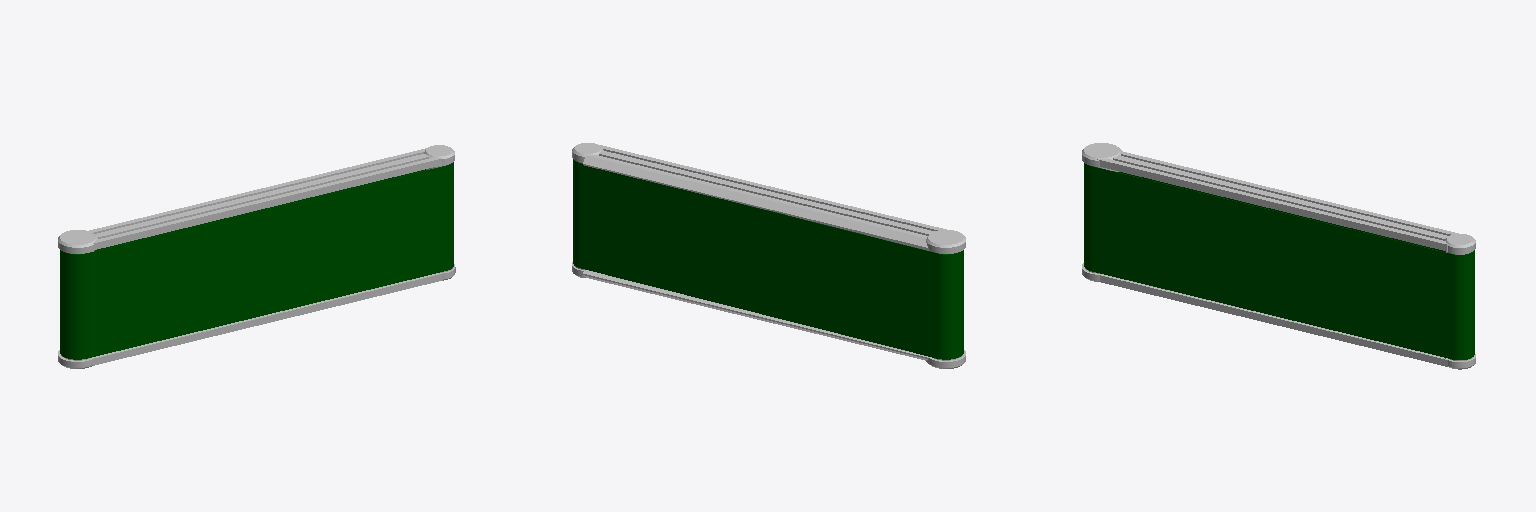
The model's file is conveyor.obj.
3 views of the same model, side by side, from view 1: azimuth 30°, elevation 25°; view 2: azimuth 150°, elevation 25°; view 3: azimuth 330°, elevation 25° (orthographic).
Size of the model in its own units: 10.05 by 3.05 by 0.8997.